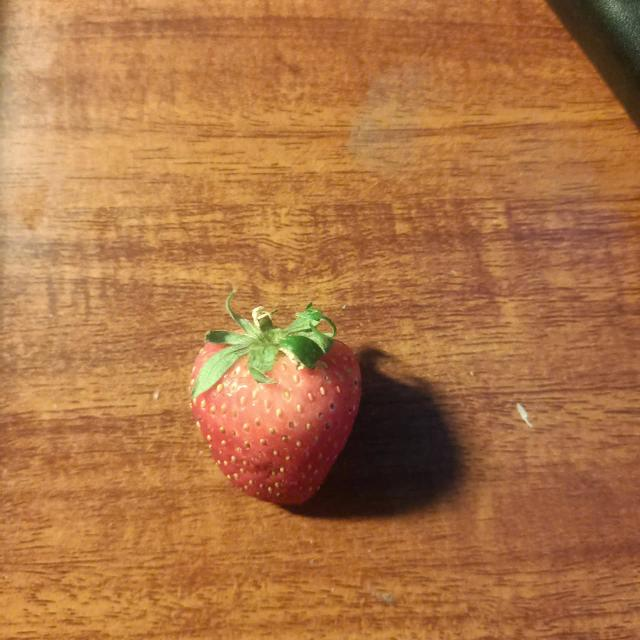DauTay: (163, 270, 388, 528)
